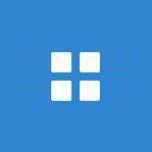ImgButton: (1, 1, 151, 151)
